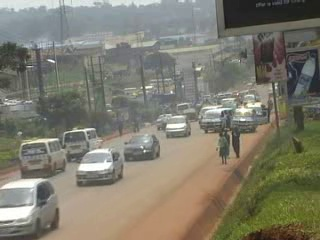Car: (0, 176, 64, 238), (76, 146, 126, 185), (121, 132, 162, 161), (164, 113, 193, 138), (180, 105, 199, 122), (155, 111, 170, 130)
Motorcycle: (159, 112, 168, 131)
